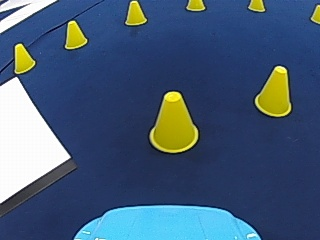cone: (149, 91, 197, 152), (254, 65, 292, 116), (12, 41, 35, 73), (63, 19, 87, 48), (124, 0, 146, 25), (309, 3, 319, 23), (186, 0, 204, 11), (248, 0, 264, 11)
